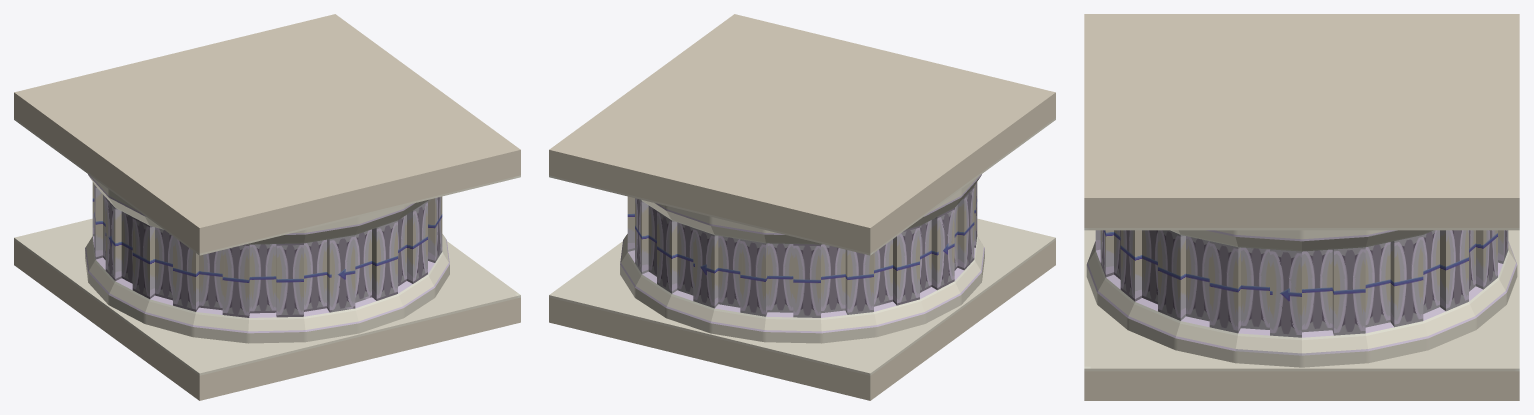
Rendered from Pedestal_Temp.fbx.
3 renders of one model, left to right at view 1: azimuth 30°, elevation 25°; view 2: azimuth 150°, elevation 25°; view 3: azimuth 270°, elevation 25°, orthographic. The views are drawn at different scales.
Parts seen in each view (by area): view 1: pCube4; view 2: pCube4; view 3: pCube4.
Part boxes in pixels (left/top/right/bottom): pCube4: left=14, top=14, right=520, bottom=400; pCube4: left=549, top=14, right=1055, bottom=400; pCube4: left=1084, top=14, right=1519, bottom=400.
Size of the model in its own units: 386 by 198 by 386.
